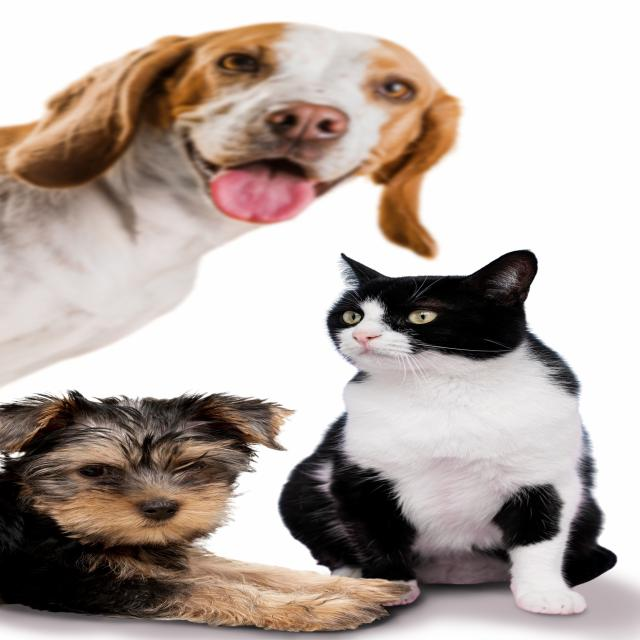cats-dogs: (279, 252, 620, 614)
dog: (0, 20, 462, 259), (0, 393, 296, 634)
